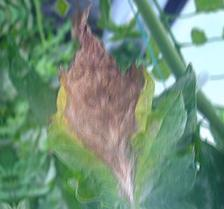Tomato mold leaf: (30, 0, 200, 209)
